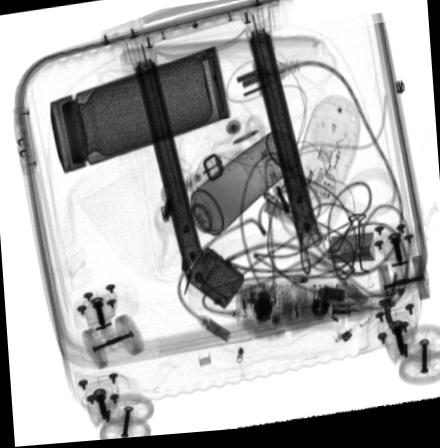Lighter: (186, 251, 245, 313)
Sprayer: (166, 133, 301, 260)
